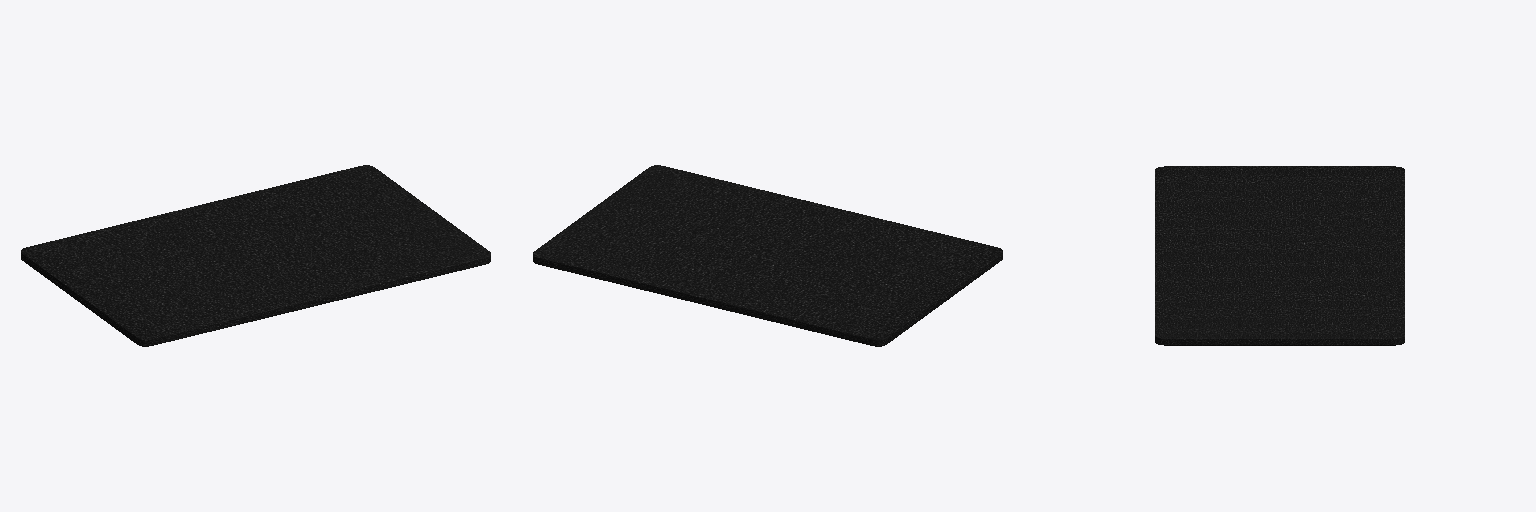
3 views of the same model, side by side, from view 1: azimuth 30°, elevation 25°; view 2: azimuth 150°, elevation 25°; view 3: azimuth 270°, elevation 25° (orthographic).
Visible parts, largest first — view 1: tm; view 2: tm; view 3: tm.
Part boxes in pixels (bbox=[...]): tm: bbox=[21, 165, 490, 346]; tm: bbox=[533, 165, 1002, 346]; tm: bbox=[1155, 166, 1404, 345].
Bounding box in the file's own units: 130 × 2.66 × 80.
1 materials, 1 textured.